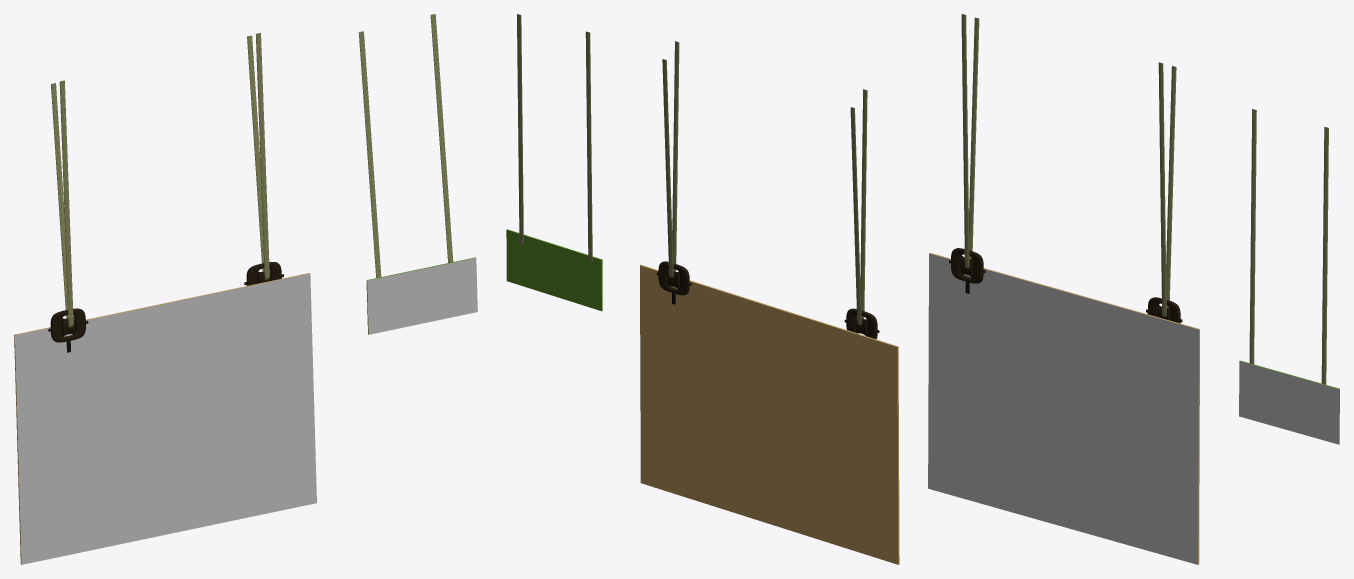
File: daftarmenu.obj
3 renders of one model, left to right at view 1: azimuth 30°, elevation 25°; view 2: azimuth 150°, elevation 25°; view 3: azimuth 330°, elevation 25°, orthographic. The views are drawn at different scales.
Parts seen in each view (by area): view 1: Plane.018_Plane.055_Plane.018_Plane.002, Plane.059_Plane.021_Plane.059_Plane.002, Plane.063_Plane.041_Plane.063_Plane.002, Plane.062_Plane.041_Plane.062_Plane.002, Plane.064_Plane.002, Plane.065_Plane.064_Plane.065_Plane.002, Cube.032_Cube.486_Cube.032_Cube.002; view 2: Plane.018_Plane.055_Plane.018_Plane.002, Plane.059_Plane.021_Plane.059_Plane.002, Plane.063_Plane.041_Plane.063_Plane.002, Plane.062_Plane.041_Plane.062_Plane.002, Plane.065_Plane.064_Plane.065_Plane.002, Plane.064_Plane.002, Cube.034_Cube.487_Cube.034_Cube.004, Cube.032_Cube.486_Cube.032_Cube.002; view 3: Plane.018_Plane.055_Plane.018_Plane.002, Plane.059_Plane.021_Plane.059_Plane.002, Plane.062_Plane.041_Plane.062_Plane.002, Plane.063_Plane.041_Plane.063_Plane.002, Plane.064_Plane.002, Plane.065_Plane.064_Plane.065_Plane.002, Cube.032_Cube.486_Cube.032_Cube.002.
Part boxes in pixels (x1=…): Plane.018_Plane.055_Plane.018_Plane.002: x1=14, y1=273, x2=316, y2=564; Plane.059_Plane.021_Plane.059_Plane.002: x1=366, y1=257, x2=477, y2=334; Plane.063_Plane.041_Plane.063_Plane.002: x1=247, y1=33, x2=269, y2=279; Plane.062_Plane.041_Plane.062_Plane.002: x1=51, y1=80, x2=73, y2=327; Plane.064_Plane.002: x1=430, y1=14, x2=453, y2=262; Plane.065_Plane.064_Plane.065_Plane.002: x1=358, y1=31, x2=381, y2=277; Cube.032_Cube.486_Cube.032_Cube.002: x1=50, y1=308, x2=85, y2=342; Plane.018_Plane.055_Plane.018_Plane.002: x1=640, y1=265, x2=899, y2=564; Plane.059_Plane.021_Plane.059_Plane.002: x1=506, y1=229, x2=602, y2=311; Plane.063_Plane.041_Plane.063_Plane.002: x1=662, y1=41, x2=679, y2=277; Plane.062_Plane.041_Plane.062_Plane.002: x1=850, y1=89, x2=867, y2=325; Plane.065_Plane.064_Plane.065_Plane.002: x1=585, y1=31, x2=592, y2=261; Plane.064_Plane.002: x1=517, y1=14, x2=523, y2=243; Cube.034_Cube.487_Cube.034_Cube.004: x1=658, y1=261, x2=689, y2=295; Cube.032_Cube.486_Cube.032_Cube.002: x1=846, y1=308, x2=877, y2=339; Plane.018_Plane.055_Plane.018_Plane.002: x1=928, y1=253, x2=1199, y2=564; Plane.059_Plane.021_Plane.059_Plane.002: x1=1239, y1=360, x2=1339, y2=444; Plane.062_Plane.041_Plane.062_Plane.002: x1=961, y1=14, x2=979, y2=268; Plane.063_Plane.041_Plane.063_Plane.002: x1=1158, y1=62, x2=1176, y2=316; Plane.064_Plane.002: x1=1321, y1=127, x2=1328, y2=384; Plane.065_Plane.064_Plane.065_Plane.002: x1=1249, y1=109, x2=1256, y2=364; Cube.032_Cube.486_Cube.032_Cube.002: x1=951, y1=248, x2=983, y2=283.
Size of the model in its own units: 15.01 by 15.83 by 2.1.
